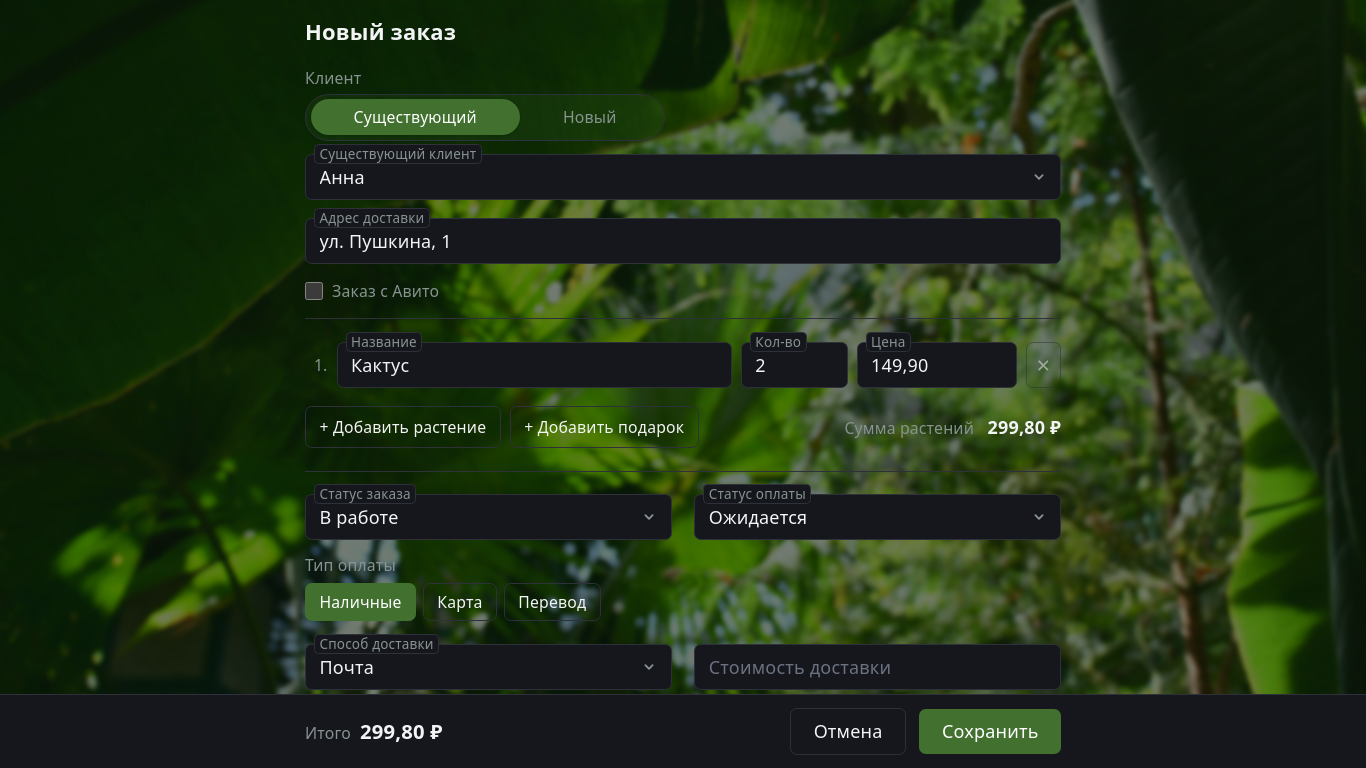
Test case: OrderForm › shows the prepaid-amount input only for the prepaid status and keeps its value across a switch
The image size is (1366, 768).
Expected: the dropdown labelled "Существующий клиент" is shown, [305,154,1061,200]
Expected: the field labelled "Сумма предоплаты" is not shown
Step 1. Select "Предоплата" in the dropdown labelled "Статус оплаты" → coordinates (878, 517), box [694,494,1061,540]
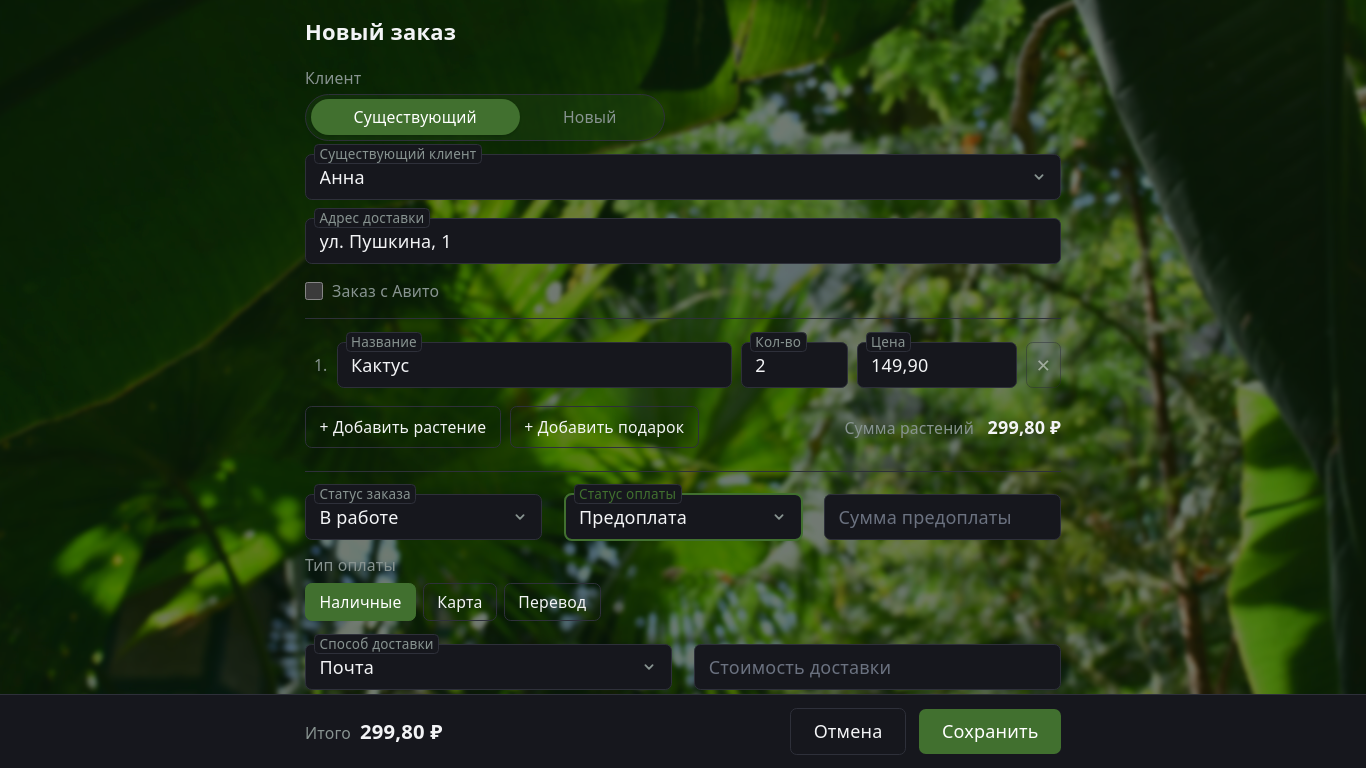
Step 2. Type "1500" into the field labelled "Сумма предоплаты" → coordinates (942, 517), box [824,494,1061,540]
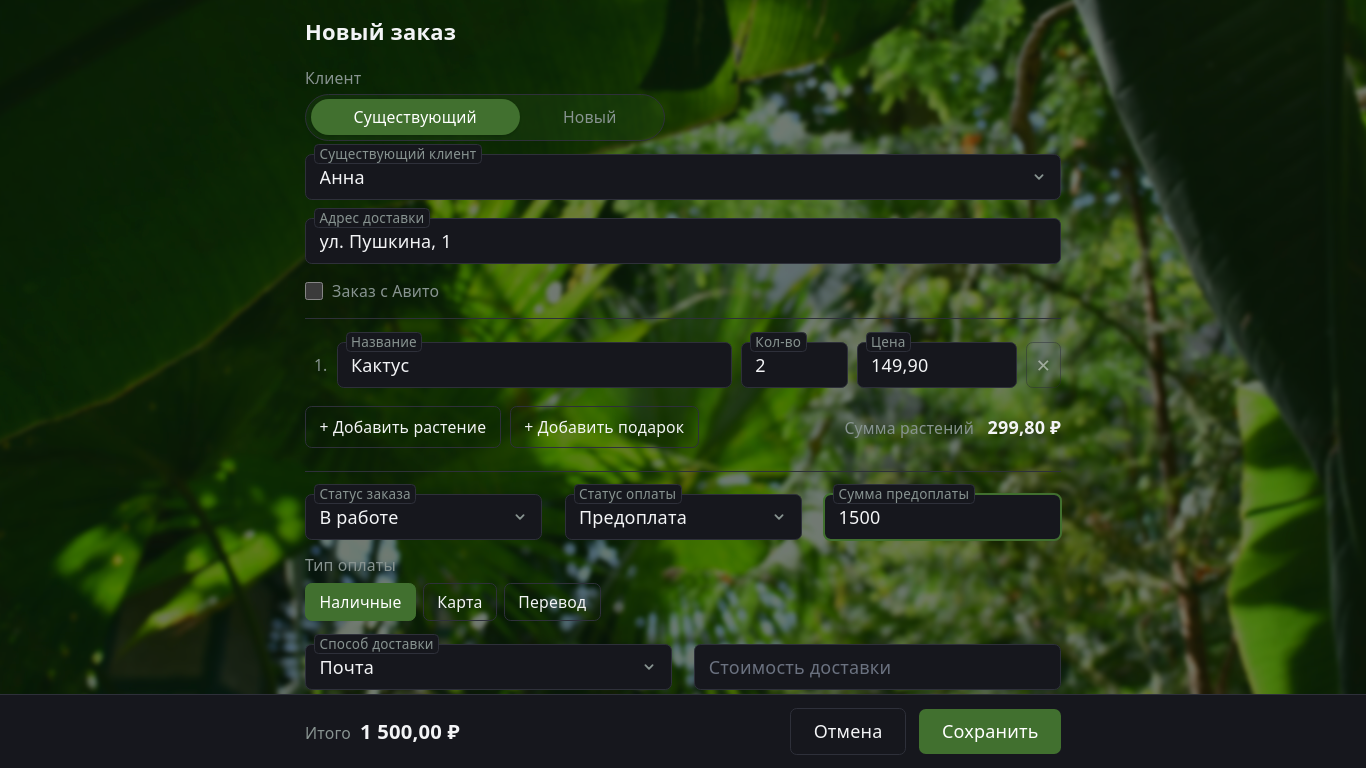
Step 3. Select "Оплачено" in the dropdown labelled "Статус оплаты" → coordinates (683, 517), box [564,494,802,540]
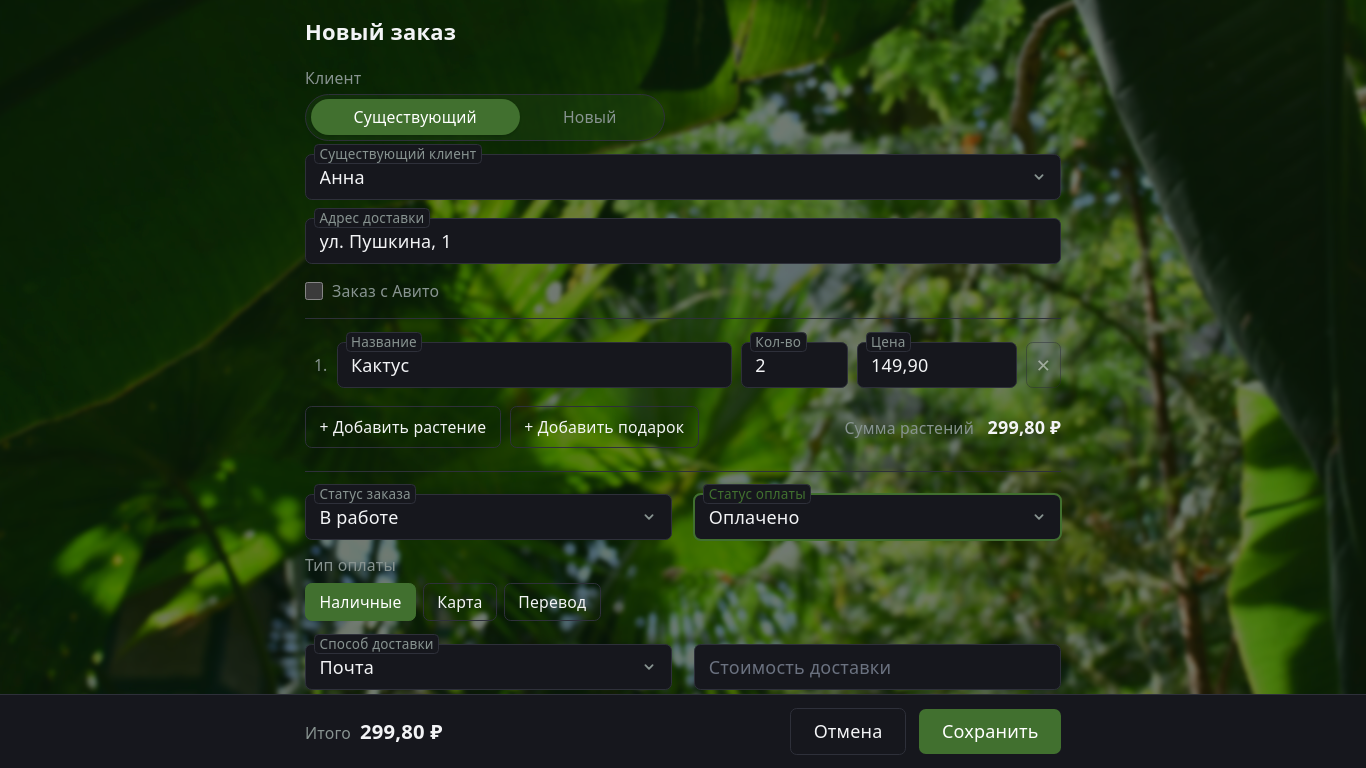
Expected: the label labelled "Сумма предоплаты" is gone
Step 4. Select "Предоплата" in the dropdown labelled "Статус оплаты" → coordinates (878, 517), box [694,494,1061,540]
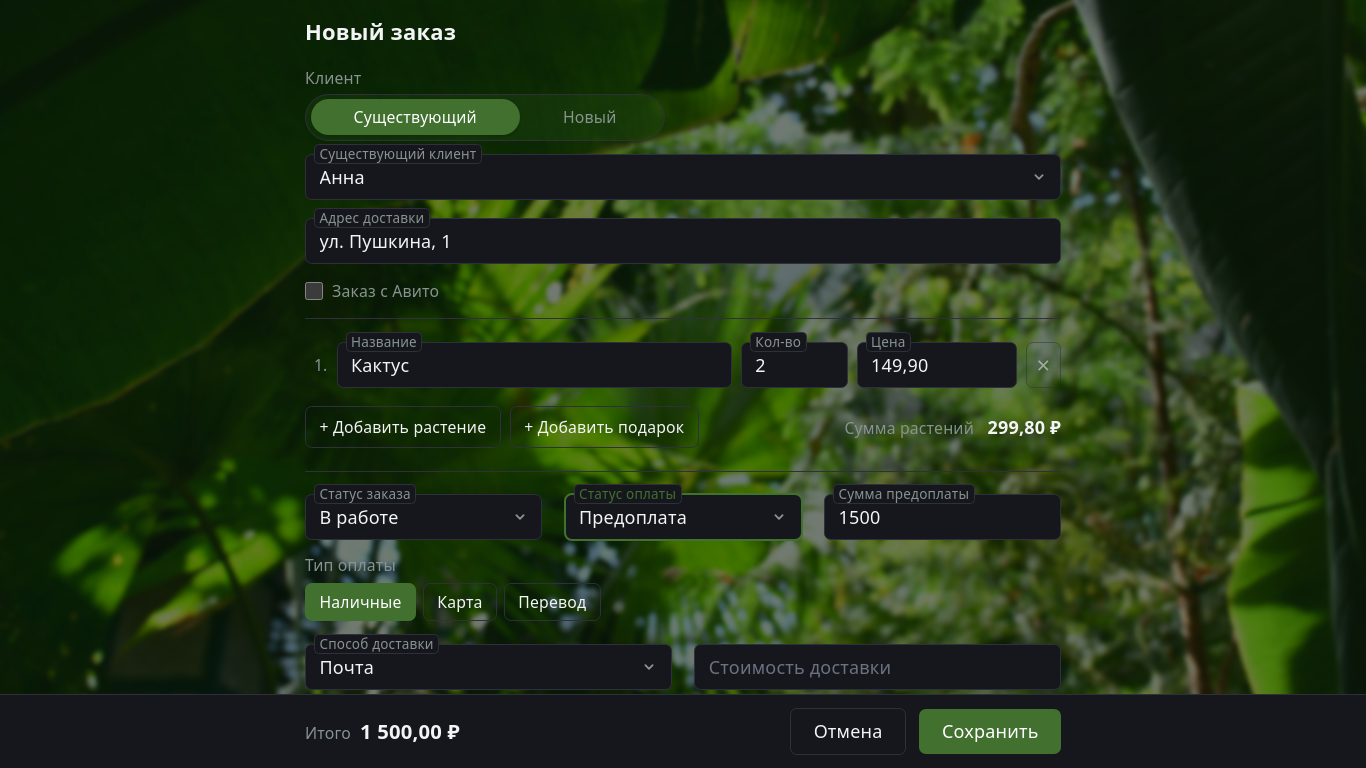
Expected: the field labelled "Сумма предоплаты" holds "1500", [824,494,1061,540]
